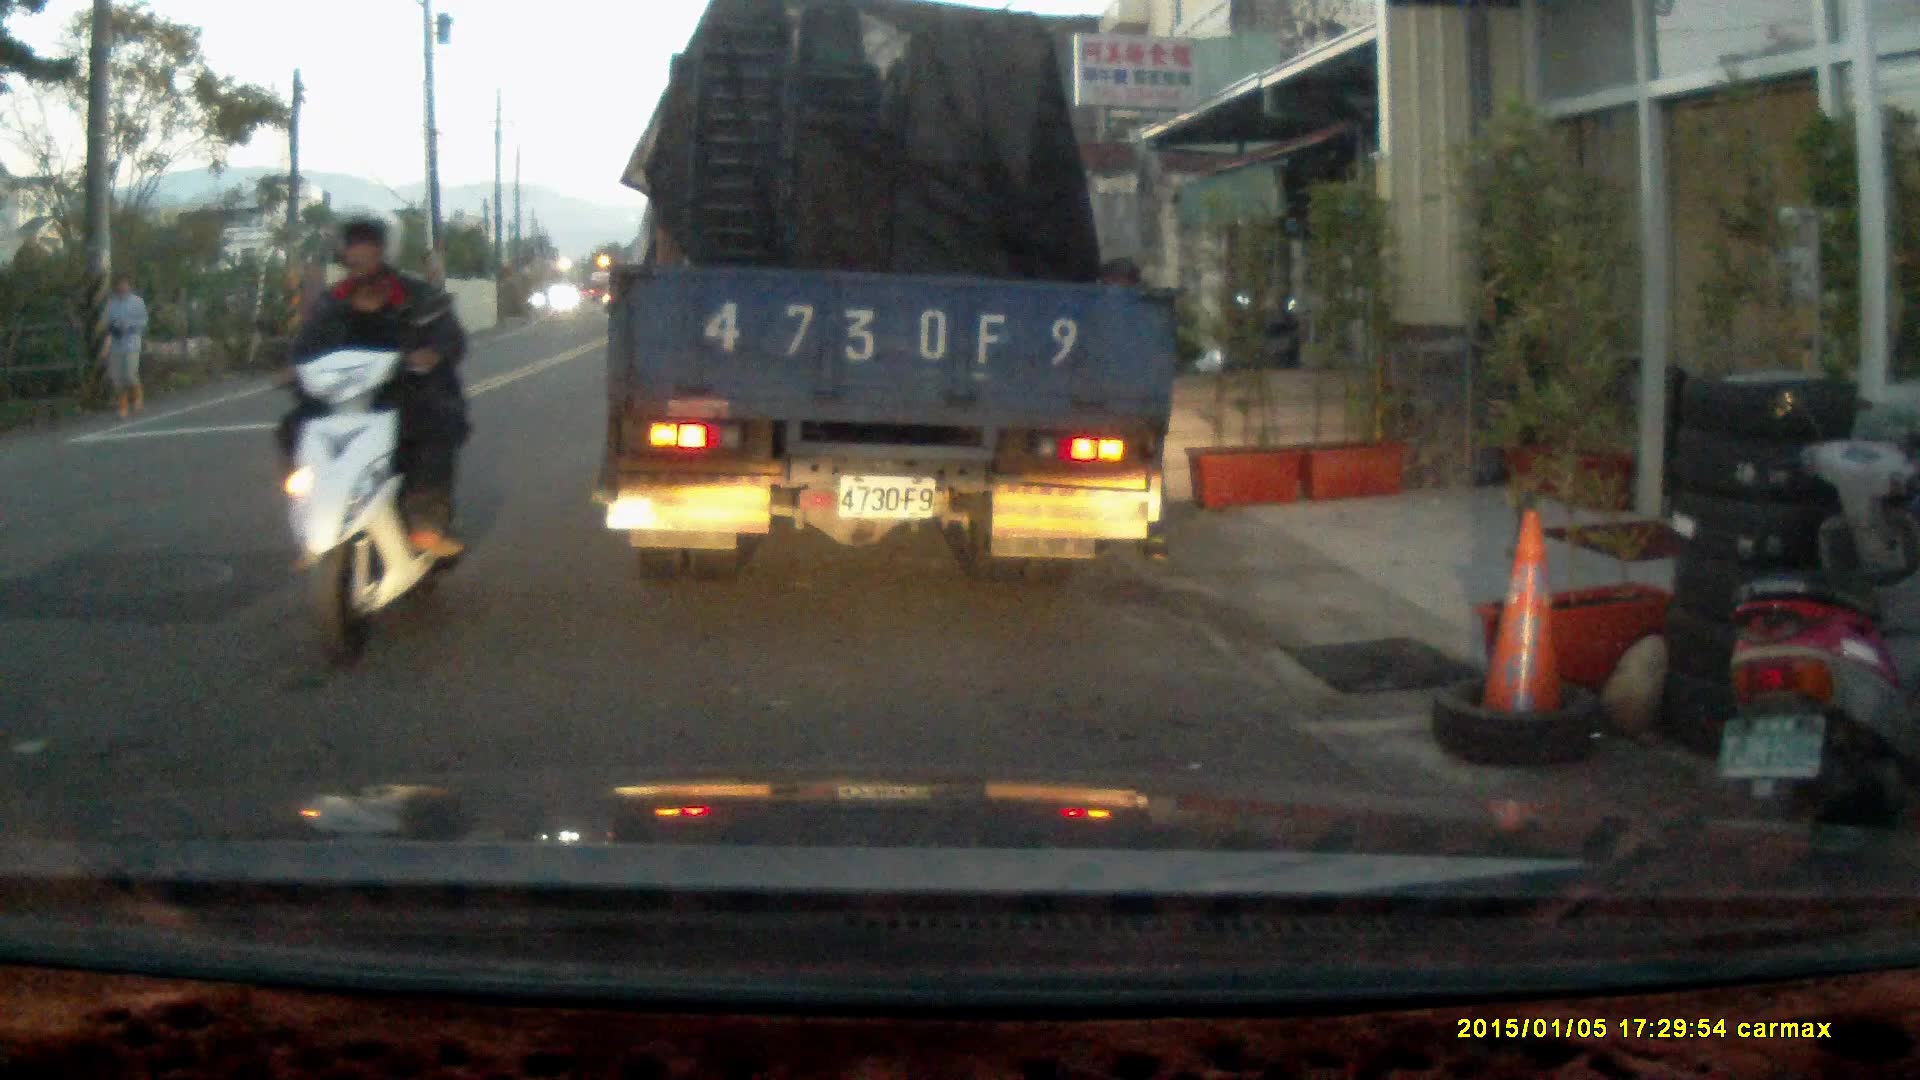pedestrian: (100, 271, 153, 420)
rider: (242, 202, 473, 677)
vehicle: (601, 23, 1187, 572)
